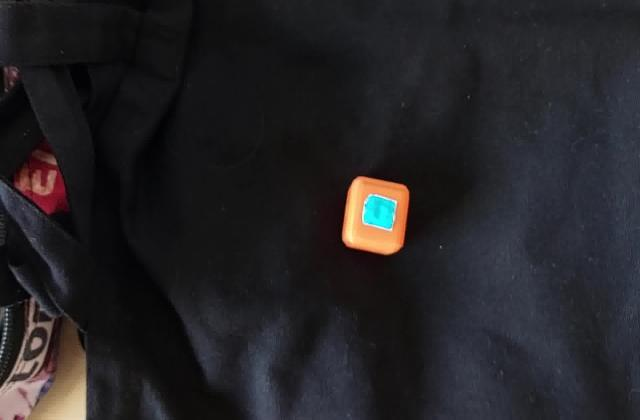blue: (371, 200, 392, 222)
sticker: (338, 172, 412, 257)
